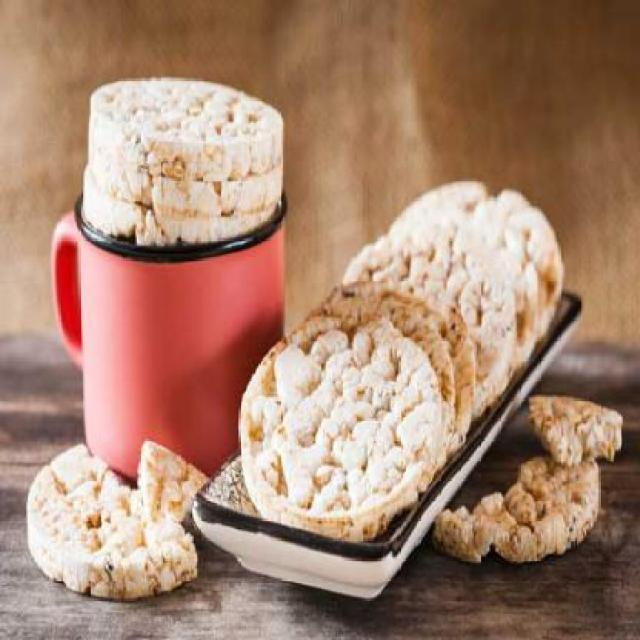Gallette di riso packaged: (242, 317, 444, 554), (25, 442, 202, 600), (88, 64, 289, 188)
